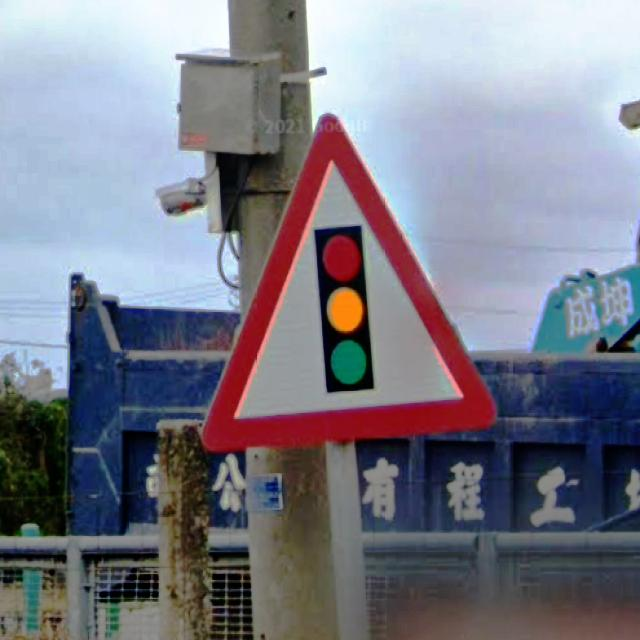signalahead: (198, 110, 496, 452)
